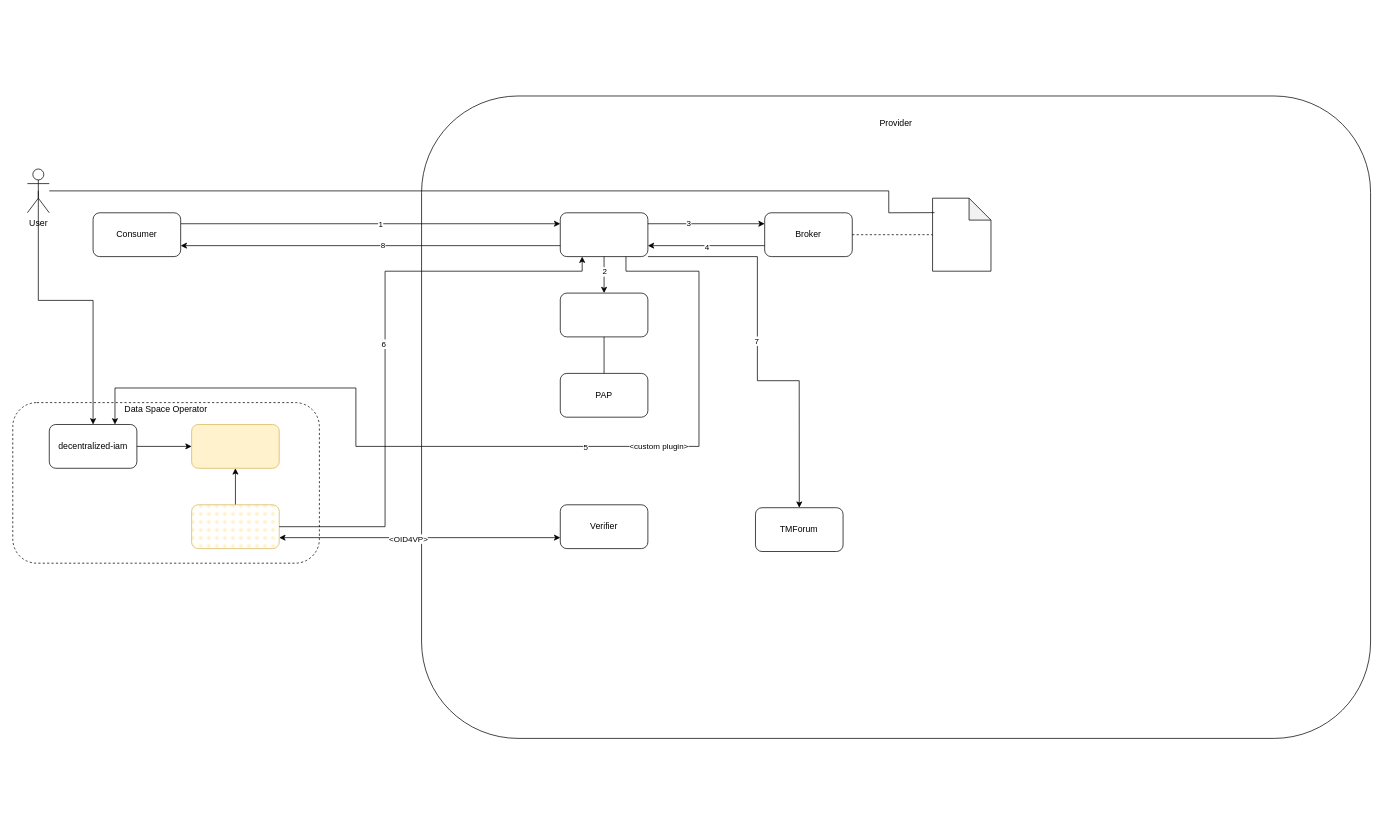
This 1383x834 diagram has some shape labels left out. The shapes that lost their labels are listed below. From the top down, each one's centre as x and y in pixels, then its label:
the point at 604,234: PEP
the point at 961,234: Data
the point at 604,314: PDP
the point at 235,446: Consent Manager
the point at 235,526: TMForum Contract Facade
